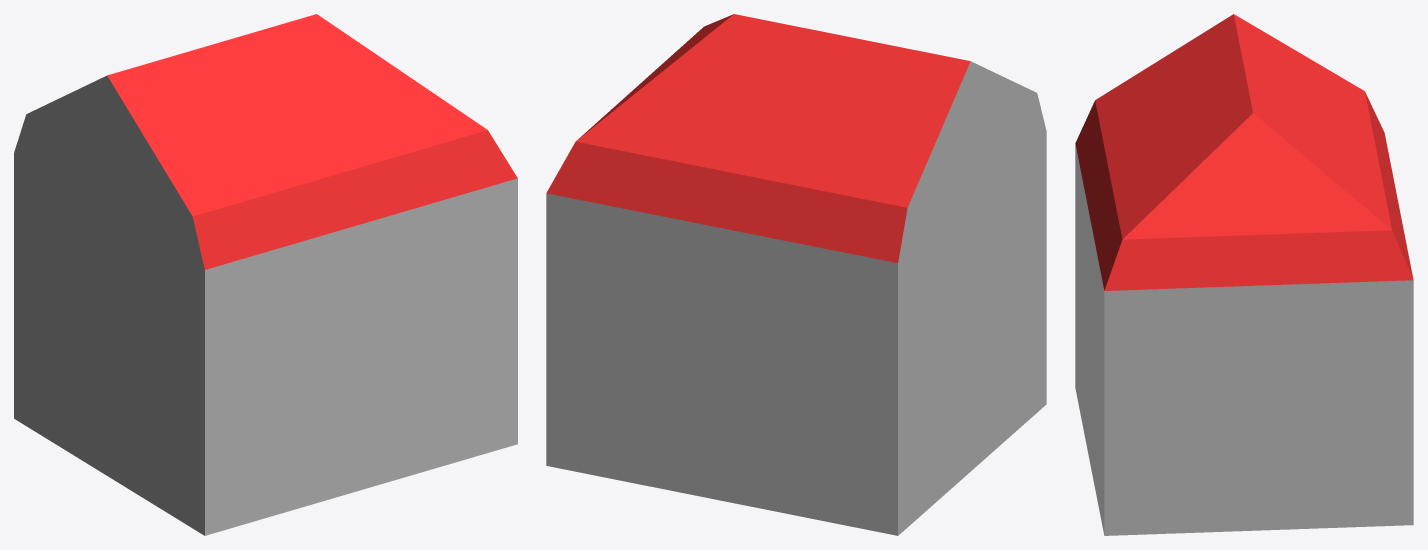
The model's file is DEBY_LOD2_63746.dae.
3 views of the same model, side by side, from view 1: azimuth 30°, elevation 25°; view 2: azimuth 150°, elevation 25°; view 3: azimuth 270°, elevation 25° (orthographic). The views are drawn at different scales.
Bounding box in the file's own units: 17.95 × 16.22 × 19.53.
